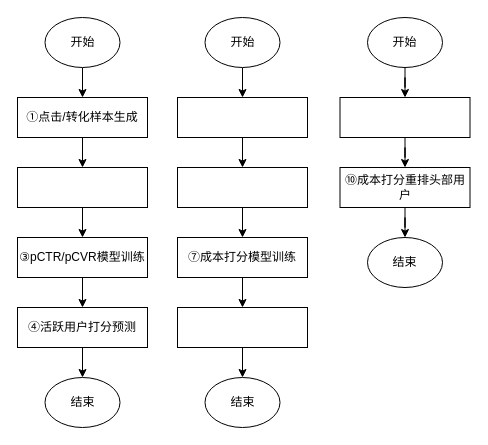
Image size: 488x445. Some labels were removed from this diagram. The centre of each missing label's shape, as x and y in pixels:
"②训练集生成" goes at pixel 82 187.
"⑤成本样本生成" goes at pixel 242 117.
"⑥训练集生成" goes at pixel 242 187.
"⑧活跃用户打分预测" goes at pixel 242 327.
"⑨pCTR pCVR对活跃用户排序" goes at pixel 404 117.
